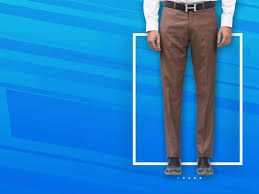F_belt: (161, 1, 219, 15)
